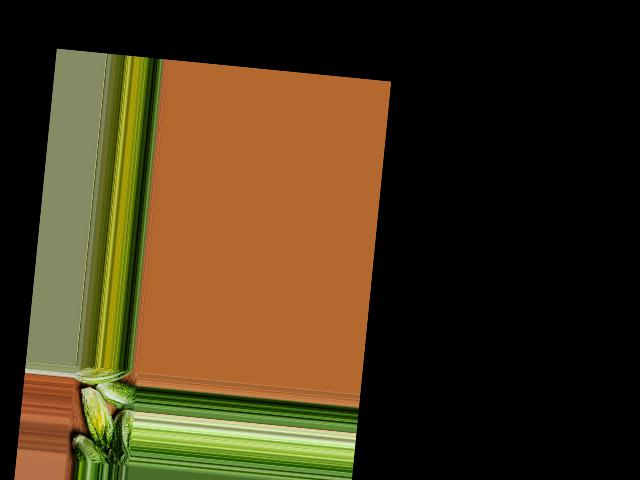lettuce: (74, 364, 131, 389)
